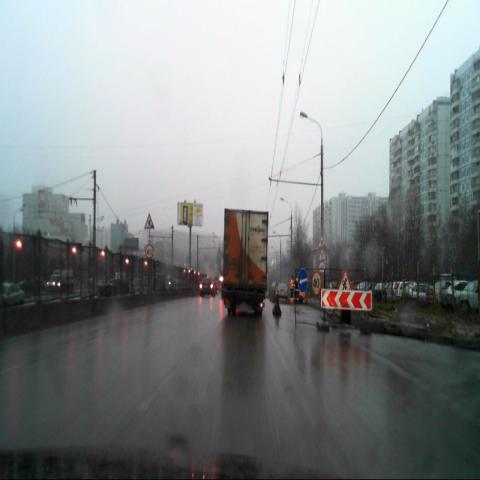4_1_2_2: (298, 267, 308, 292)
